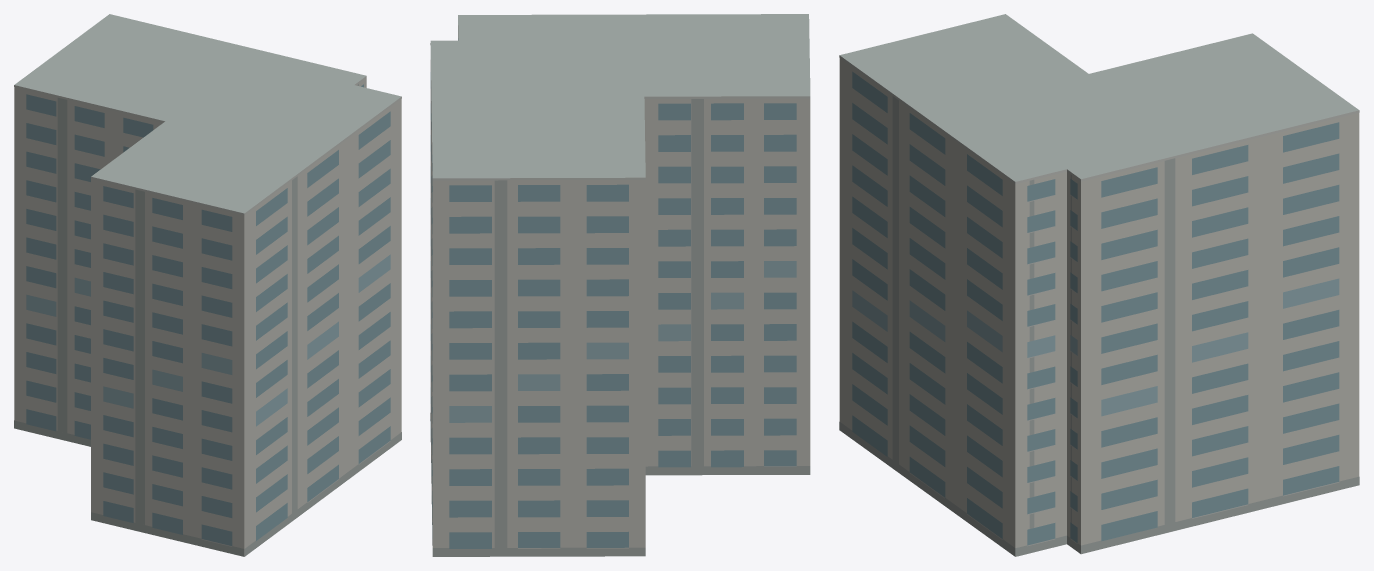
File: residential-26b1a9eb-8647-4f31-9db2-19e497adcb48.glb
3 views of the same model, side by side, from view 1: azimuth 30°, elevation 25°; view 2: azimuth 150°, elevation 25°; view 3: azimuth 270°, elevation 25° (orthographic). The views are drawn at different scales.
Parts seen in each view (by area): view 1: residential-26b1a9eb-8647-4f31-9db2-19e497adcb48.tmp; view 2: residential-26b1a9eb-8647-4f31-9db2-19e497adcb48.tmp; view 3: residential-26b1a9eb-8647-4f31-9db2-19e497adcb48.tmp.
Part boxes in pixels (x1=…): residential-26b1a9eb-8647-4f31-9db2-19e497adcb48.tmp: x1=14, y1=14, x2=401, y2=556; residential-26b1a9eb-8647-4f31-9db2-19e497adcb48.tmp: x1=430, y1=14, x2=810, y2=556; residential-26b1a9eb-8647-4f31-9db2-19e497adcb48.tmp: x1=839, y1=14, x2=1359, y2=556.
Size of the model in its own units: 38.44 by 40 by 50.28.
